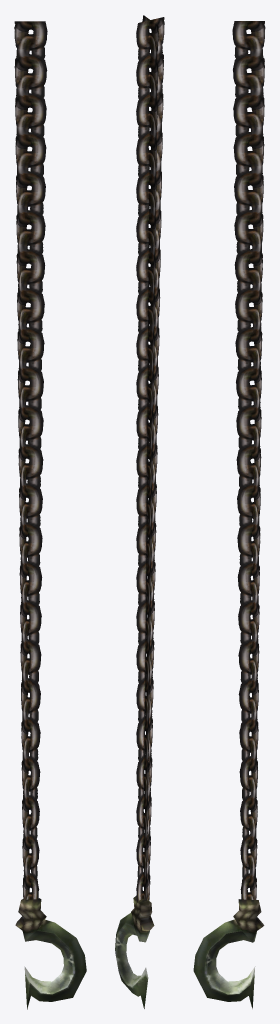
Rendered from undead_empty_hook.obj.
The picture shows the model from 3 angles, left to right: view 1: azimuth 90°, elevation 25°; view 2: azimuth 210°, elevation 25°; view 3: azimuth 270°, elevation 25°; orthographic projection.
Visible parts, largest first — view 1: UNDEAD_EMPTY_HOOK1, UNDEAD_EMPTY_HOOK0; view 2: UNDEAD_EMPTY_HOOK1, UNDEAD_EMPTY_HOOK0; view 3: UNDEAD_EMPTY_HOOK1, UNDEAD_EMPTY_HOOK0.
Boxes of the visible parts, box(x1,y1,x2,y2) form: UNDEAD_EMPTY_HOOK1: box(14, 21, 47, 899); UNDEAD_EMPTY_HOOK0: box(15, 898, 86, 1009); UNDEAD_EMPTY_HOOK1: box(136, 15, 164, 911); UNDEAD_EMPTY_HOOK0: box(115, 895, 154, 1008); UNDEAD_EMPTY_HOOK1: box(232, 21, 265, 899); UNDEAD_EMPTY_HOOK0: box(193, 899, 264, 1008).
Bounding box in the file's own units: 0.5798 × 18.93 × 1.25.
Materials: 2 (2 with a texture image).
